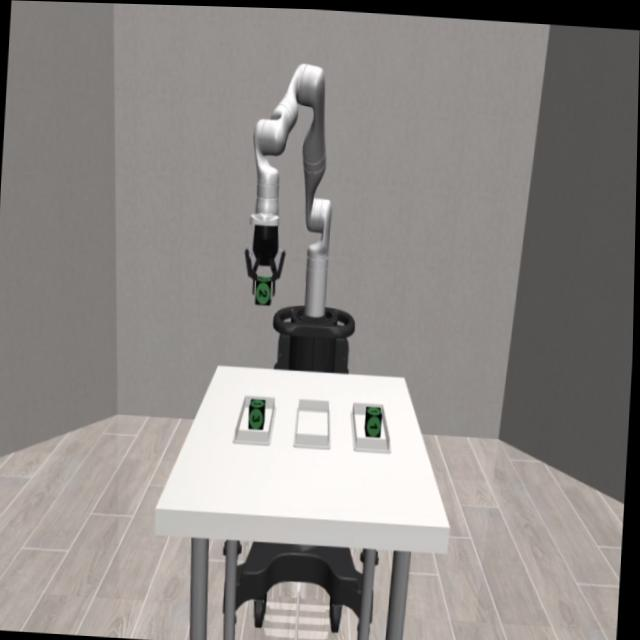cube1: (368, 403, 383, 434)
cube2: (255, 274, 272, 306)
cube3: (250, 395, 268, 427)
